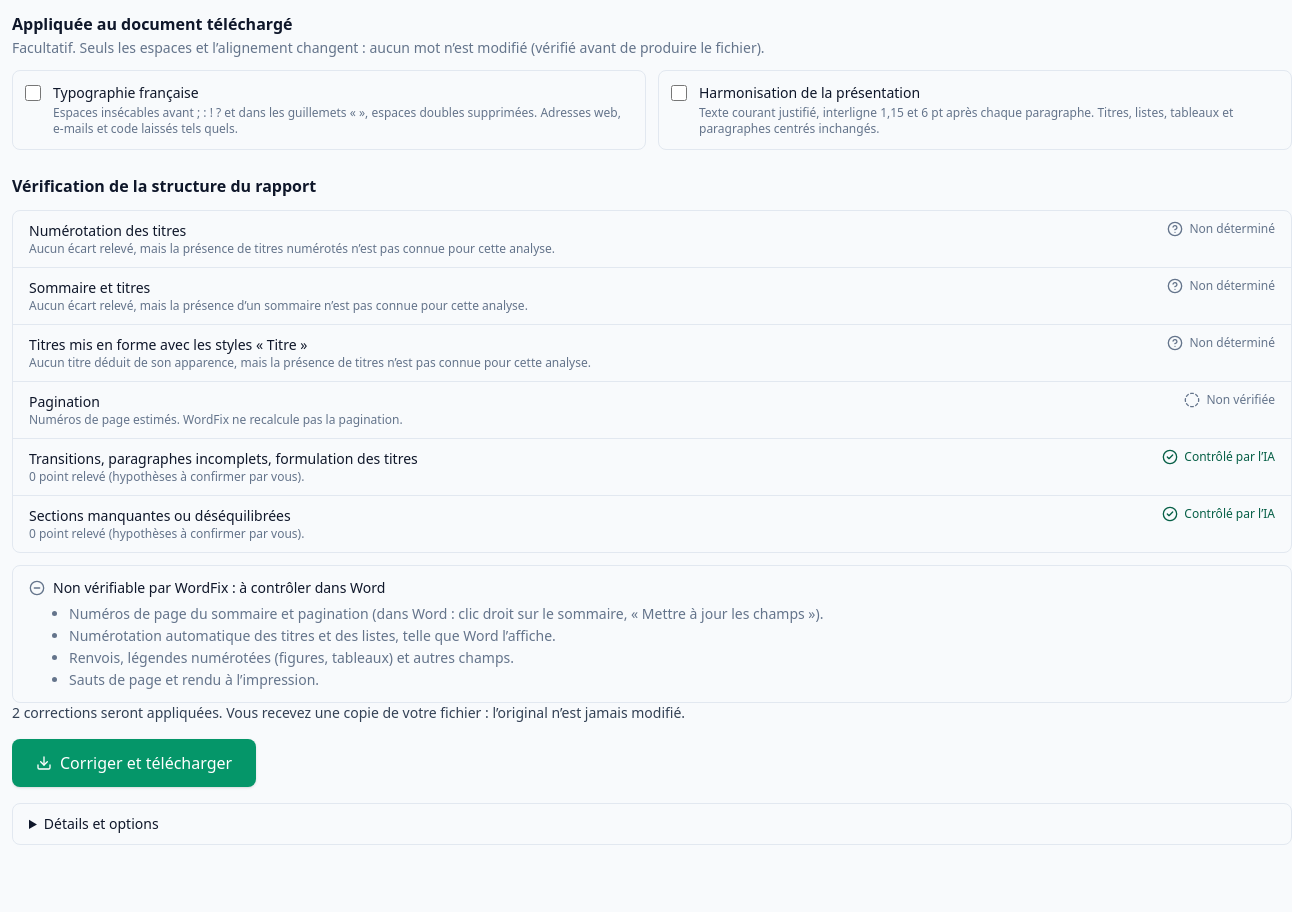
Test: Action principale « Corriger et télécharger » › demande refusée (quota) : message du serveur affiché, aucun téléchargement
The image size is (1292, 912).
Click the button "Corriger et télécharger": (134, 763) [12,739,256,787]
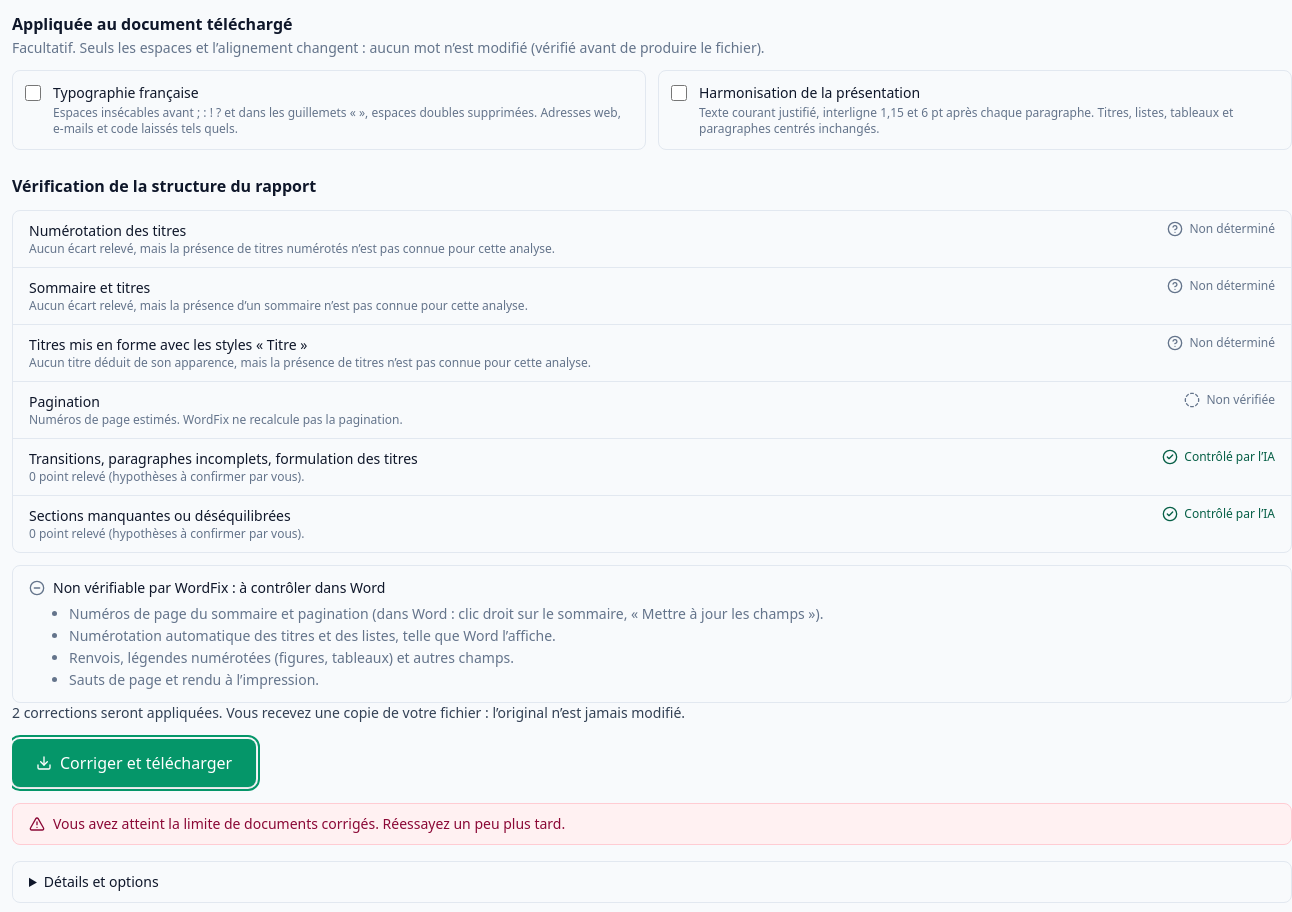
Check: the text "limite de documents corrigés" is shown, box [53,814,565,833]
